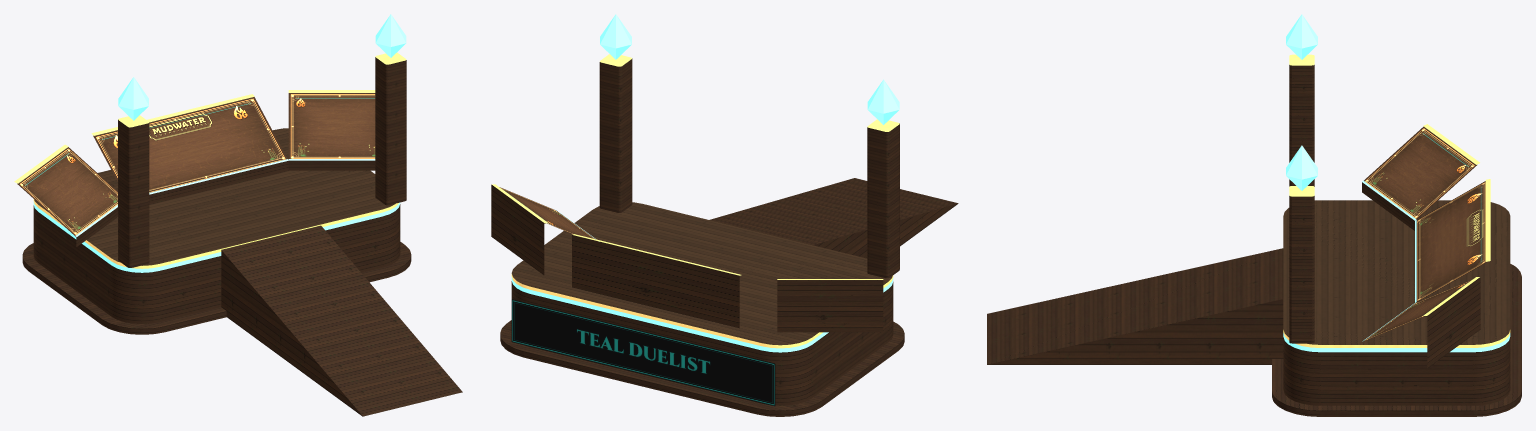
File: mwm_tower_t.glb
3 renders of one model, left to right at view 1: azimuth 30°, elevation 25°; view 2: azimuth 150°, elevation 25°; view 3: azimuth 270°, elevation 25°, orthographic. The views are drawn at different scales.
Visible parts, largest first — view 1: mwx_tower_t; view 2: mwx_tower_t; view 3: mwx_tower_t.
Boxes of the visible parts, x1,y1,x2,y2 form: mwx_tower_t: (14, 14, 462, 416); mwx_tower_t: (491, 14, 958, 416); mwx_tower_t: (987, 14, 1521, 416).
Size of the model in its own units: 19.62 by 12.4 by 23.1.
Materials: 6 (5 with a texture image).
